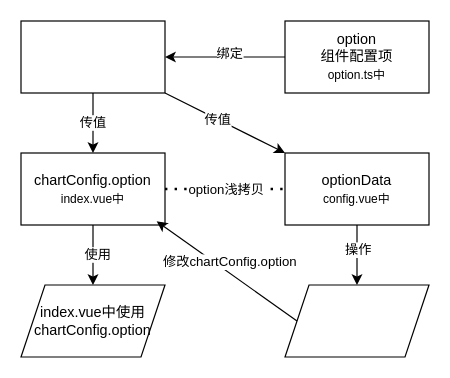
Image size: 450x378. Some labels were removed from this diagram. Each missing label, with the centre of its shape:
组件实例: the point at 92,56
表单组件操作optionData: the point at 356,320
